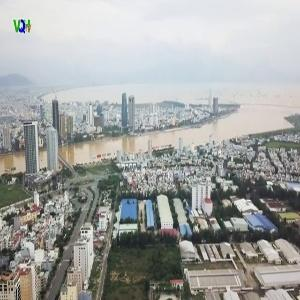drone: (218, 157, 255, 194)
